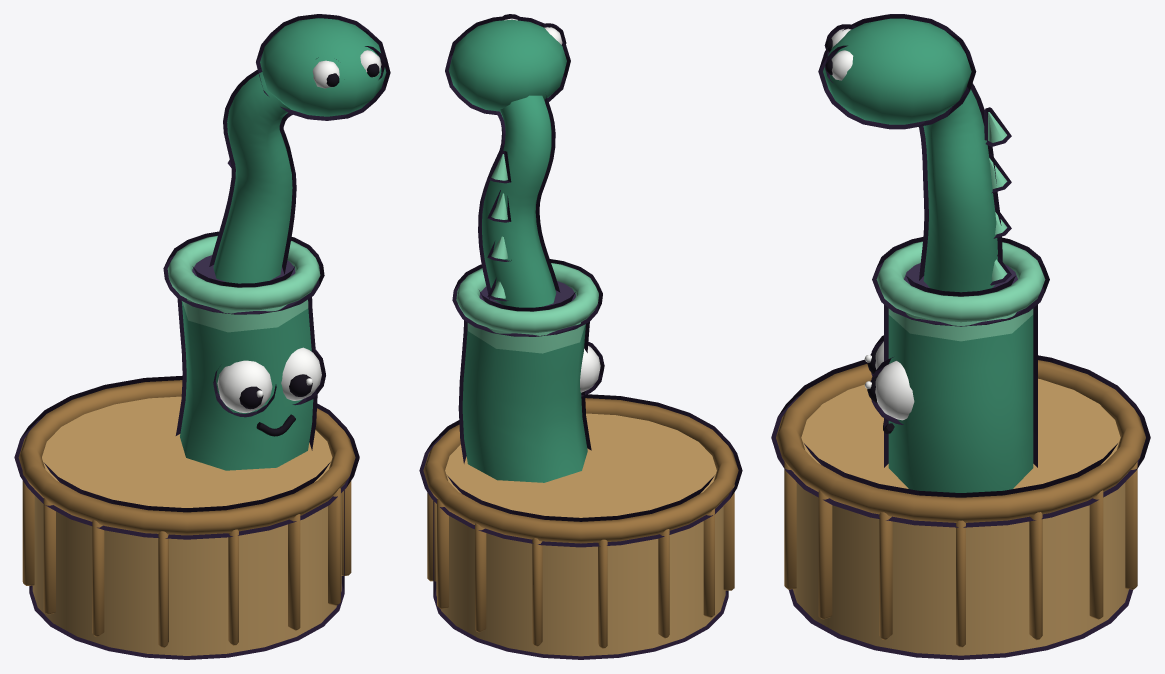
File: SockNess_L.glb
3 views of the same model, side by side, from view 1: azimuth 30°, elevation 25°; view 2: azimuth 150°, elevation 25°; view 3: azimuth 270°, elevation 25° (orthographic). The views are drawn at different scales.
Visible parts, largest first — view 1: SockNess_L, SockNess_L_Outline; view 2: SockNess_L, SockNess_L_Outline; view 3: SockNess_L, SockNess_L_Outline.
Boxes of the visible parts, <box> form: SockNess_L: <box>18,18,386,655</box>; SockNess_L_Outline: <box>14,14,390,659</box>; SockNess_L: <box>423,18,738,656</box>; SockNess_L_Outline: <box>419,14,742,659</box>; SockNess_L: <box>776,18,1145,655</box>; SockNess_L_Outline: <box>771,14,1150,659</box>.
Size of the model in its own units: 4.67 by 8.1 by 4.47.
Materials: 1 (1 with a texture image).
